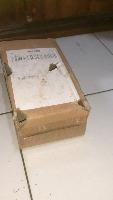damaged package: (11, 106, 30, 134), (74, 95, 90, 113), (2, 60, 12, 77)
undamaged: (0, 36, 92, 150)
